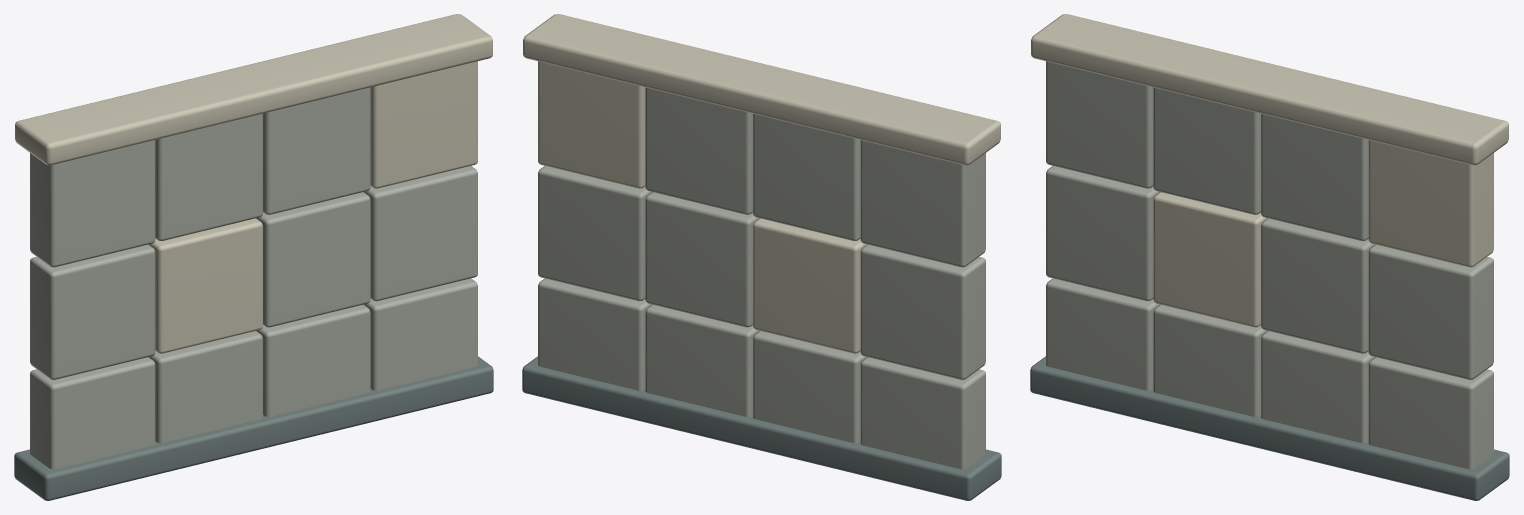
File: SM_Wall_Stone_4x3.fbx
3 renders of one model, left to right at view 1: azimuth 30°, elevation 25°; view 2: azimuth 150°, elevation 25°; view 3: azimuth 330°, elevation 25°, orthographic.
Visible parts, largest first — view 1: SM_Wall_Stone_4x3; view 2: SM_Wall_Stone_4x3; view 3: SM_Wall_Stone_4x3.
Boxes of the visible parts, <box> form: SM_Wall_Stone_4x3: <box>14,14,493,500</box>; SM_Wall_Stone_4x3: <box>522,14,1001,500</box>; SM_Wall_Stone_4x3: <box>1030,14,1509,500</box>.
Bounding box in the file's own units: 4.18 × 3.18 × 0.56.
